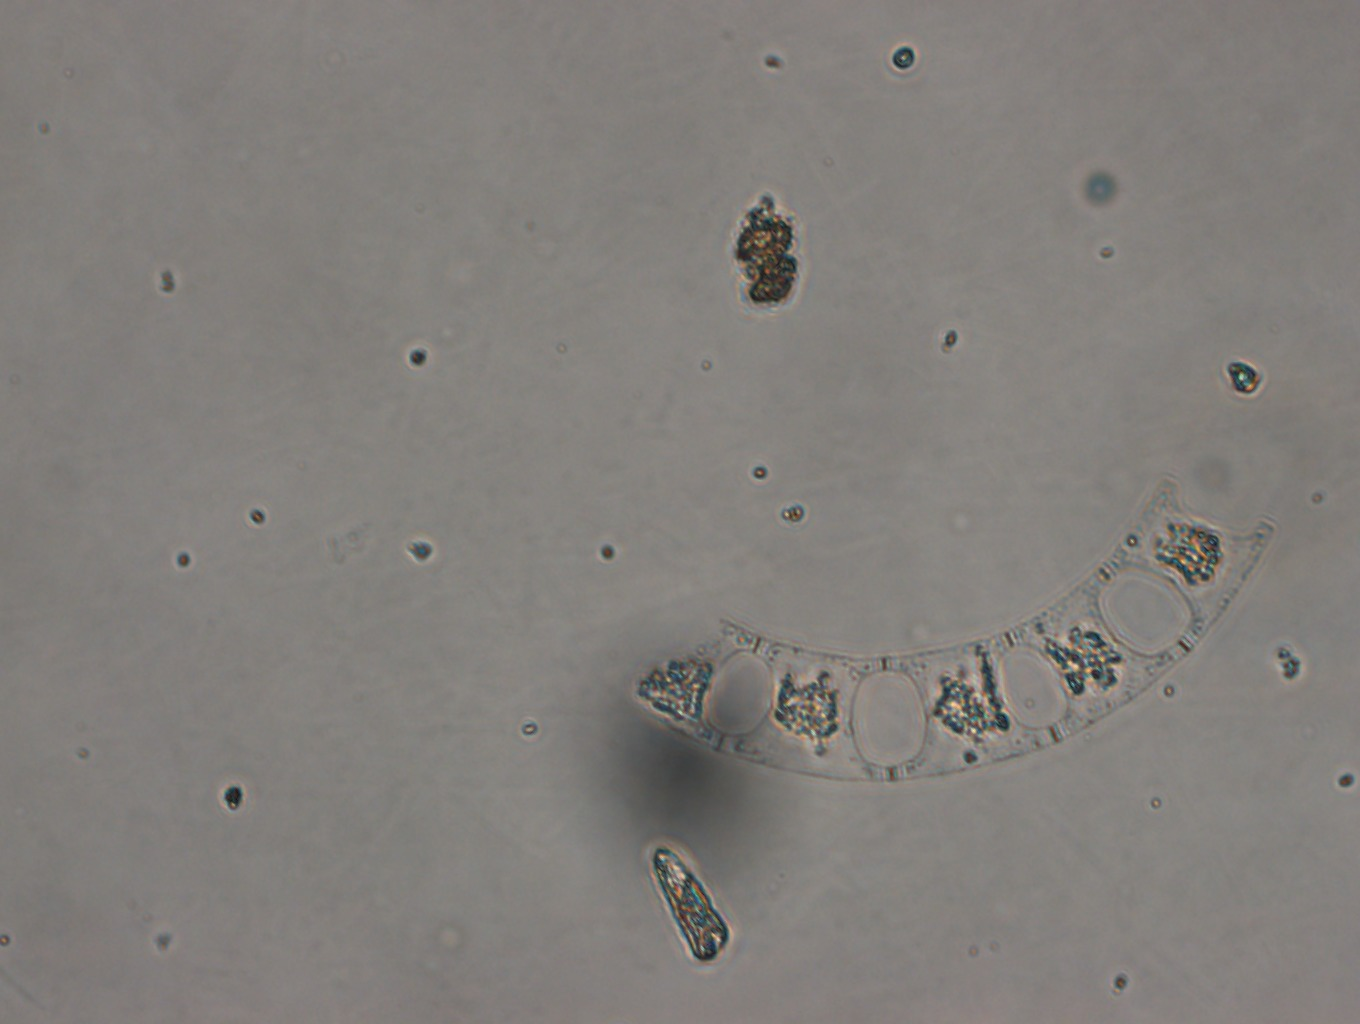eucampia: (630, 480, 1284, 792)
